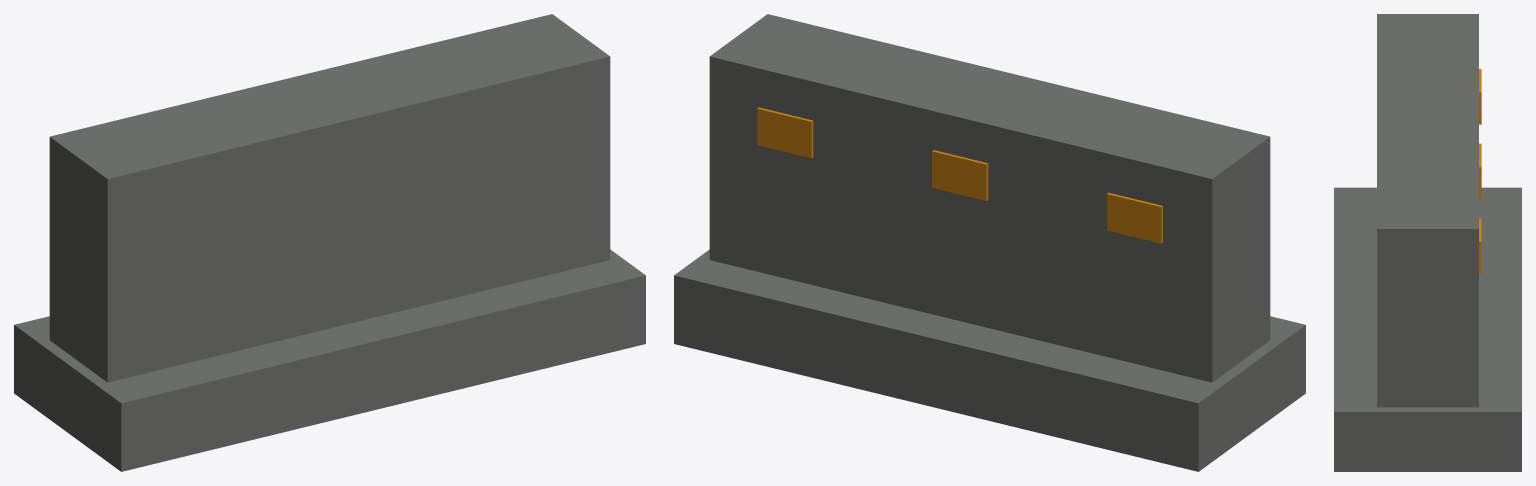
File: concrete_barrier.obj
3 renders of one model, left to right at view 1: azimuth 30°, elevation 25°; view 2: azimuth 150°, elevation 25°; view 3: azimuth 270°, elevation 25°, orthographic. The views are drawn at different scales.
Visible parts, largest first — view 1: Concrete; view 2: Concrete, Yellow_Paint; view 3: Concrete, Yellow_Paint.
Part boxes in pixels (bbox=[...]): Concrete: bbox=[14, 14, 645, 471]; Concrete: bbox=[674, 14, 1305, 471]; Yellow_Paint: bbox=[757, 107, 1162, 243]; Concrete: bbox=[1334, 14, 1521, 471]; Yellow_Paint: bbox=[1479, 69, 1481, 273].
Bounding box in the file's own units: 2.4 × 1.19 × 0.85.
